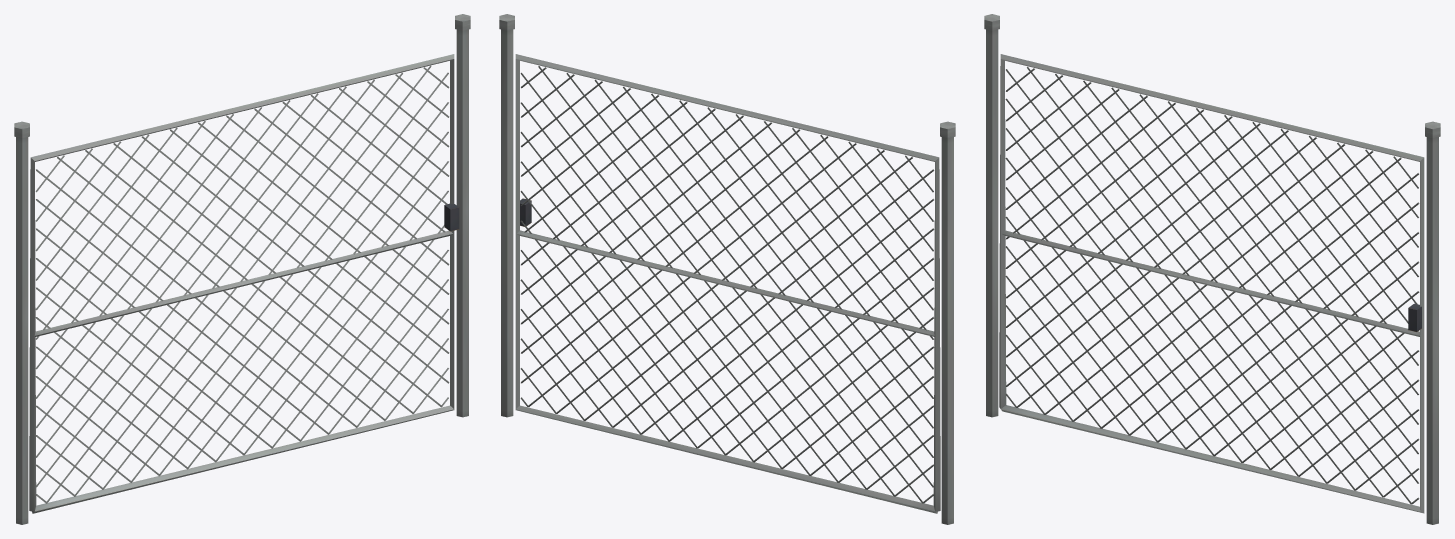
The model's file is chainlink_gate.obj.
3 renders of one model, left to right at view 1: azimuth 30°, elevation 25°; view 2: azimuth 150°, elevation 25°; view 3: azimuth 330°, elevation 25°, orthographic.
Visible parts, largest first — view 1: chainlink_gate_leaf, chainlink_gate; view 2: chainlink_gate_leaf, chainlink_gate; view 3: chainlink_gate_leaf, chainlink_gate.
Boxes of the visible parts, x1=… form: chainlink_gate_leaf: x1=29, y1=54, x2=459, y2=513; chainlink_gate: x1=14, y1=14, x2=470, y2=524; chainlink_gate_leaf: x1=515, y1=54, x2=940, y2=513; chainlink_gate: x1=499, y1=14, x2=955, y2=524; chainlink_gate_leaf: x1=999, y1=54, x2=1424, y2=513; chainlink_gate: x1=984, y1=14, x2=1440, y2=524.
Size of the model in its own units: 2.59 by 2.15 by 0.099.
1 material, 1 textured.
